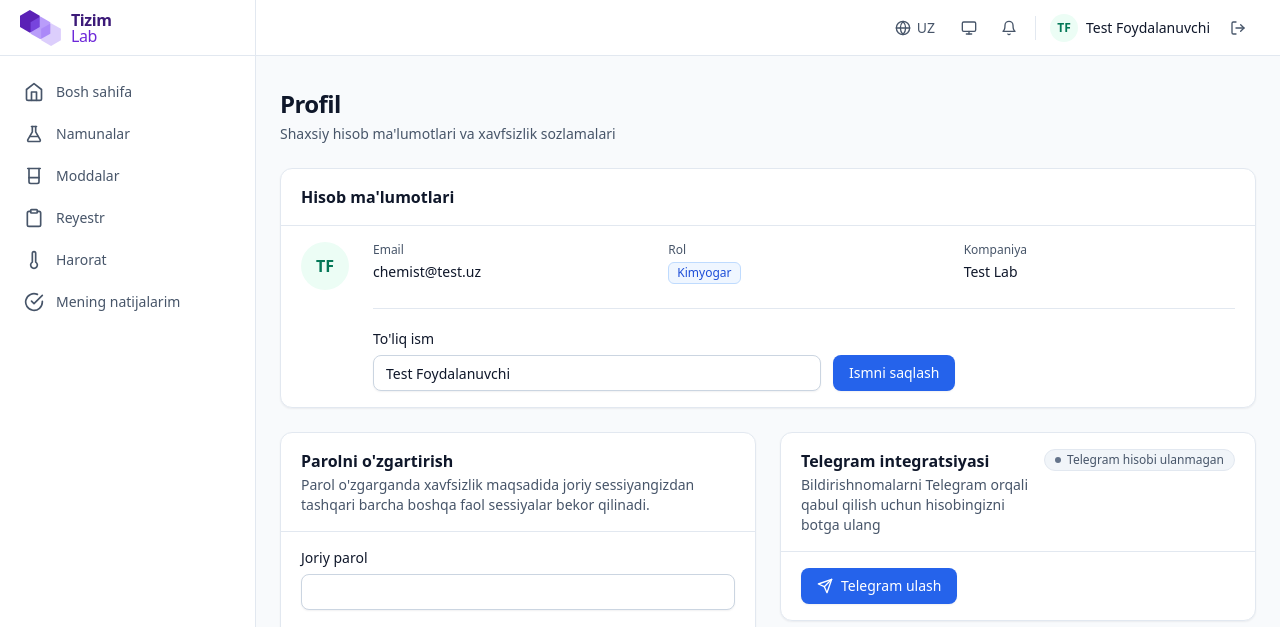
it: ProfilePage › ismni yangilash: PATCH /auth/profile yuboriladi va saqlanadi
Replace the text in the field labelled "To'liq ism" with "Ziyoda Kimyogarova". click: (597, 373)
box: [373, 355, 821, 391]
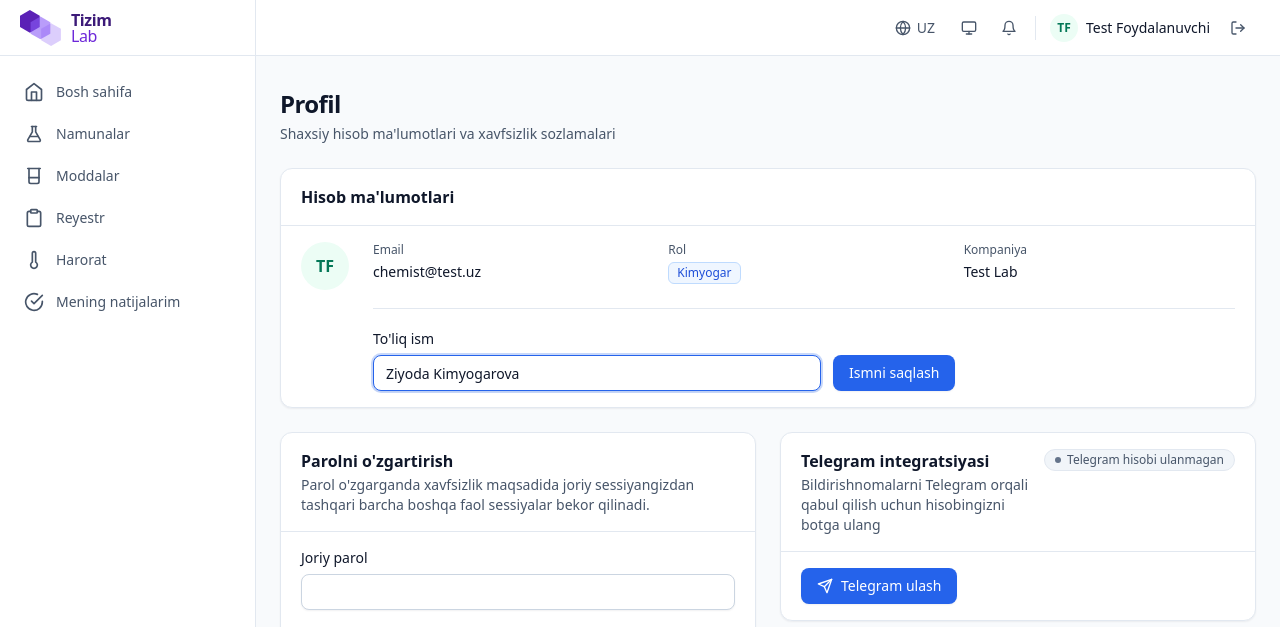
Click the button "Ismni saqlash". click: click(894, 373)
box: [833, 355, 956, 391]
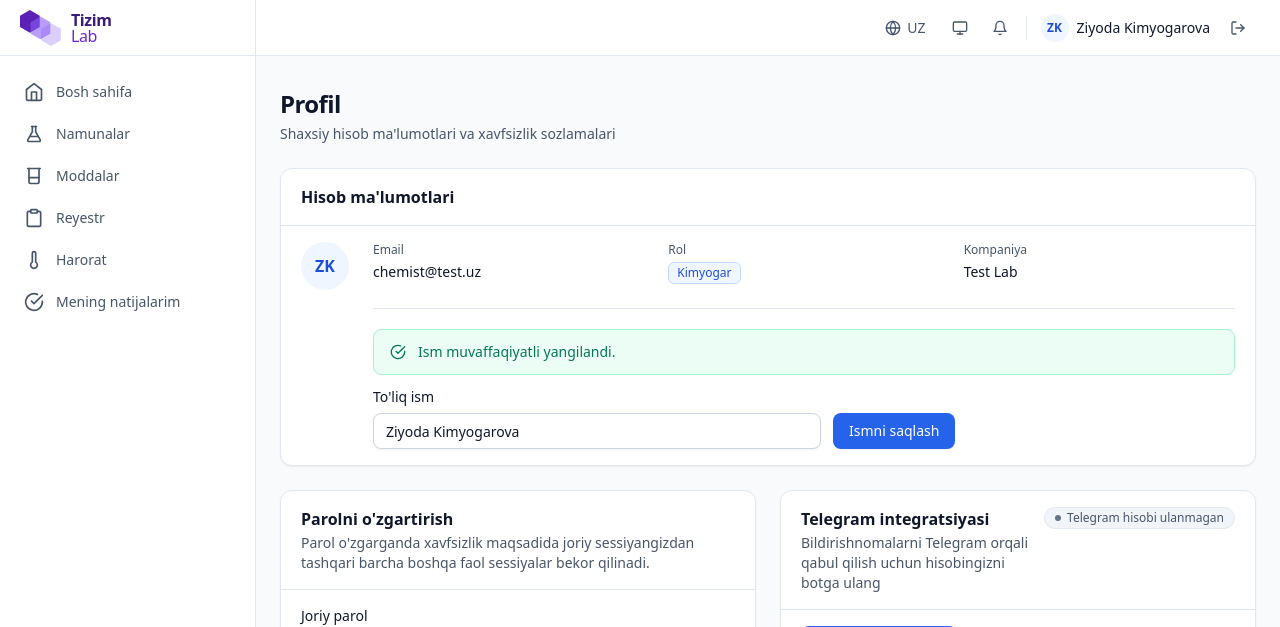
Check: the text "Ism muvaffaqiyatli yangilandi." is shown, box [418, 342, 616, 361]
Check: the text "Ziyoda Kimyogarova" is shown, box [1077, 18, 1210, 38]
